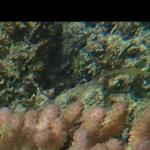dead: (1, 22, 149, 149)
